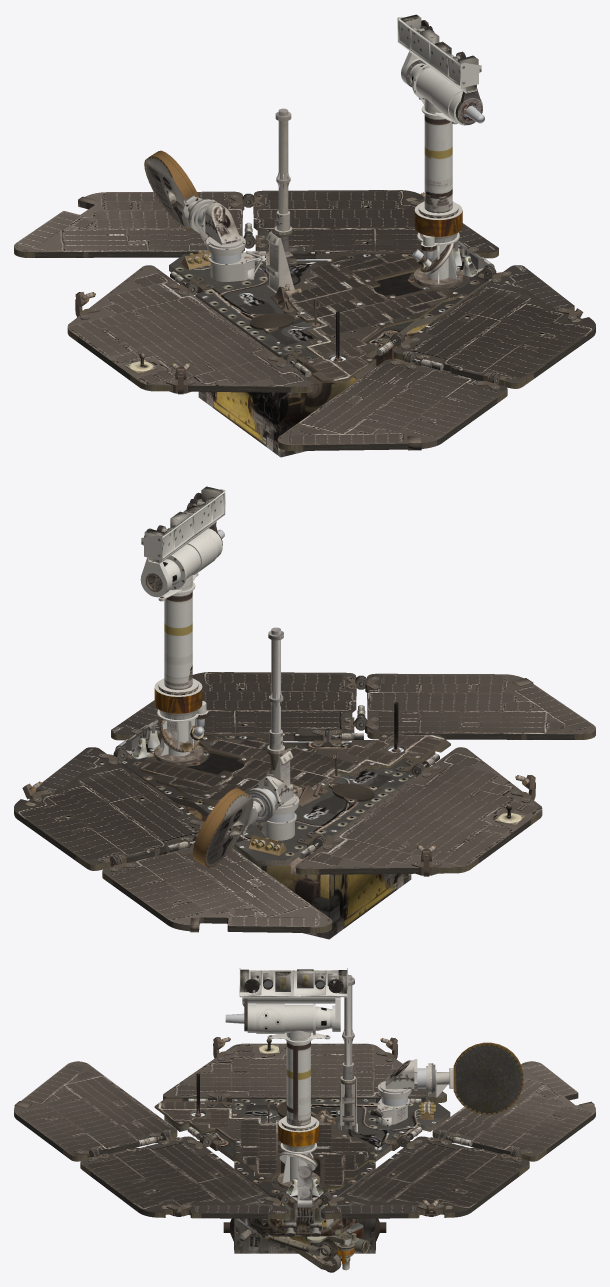
Rendered from Body_Chassis.dae.
3 views of the same model, one above another, from view 1: azimuth 30°, elevation 25°; view 2: azimuth 150°, elevation 25°; view 3: azimuth 270°, elevation 25° (orthographic). The views are drawn at different scales.
Parts seen in each view (by area): view 1: body, panels_rear, panels_left_front, panels_left_rear, panels_right_front, panels_right_rear, mast_neck, mast_top, HGAA_arm, mast_base, HGAA, HGAA_top (+1 smaller); view 2: body, panels_rear, panels_right_front, panels_left_rear, panels_right_rear, panels_left_front, mast_neck, mast_top, HGAA_arm, mast_base, HGAA_top, HGAA (+1 smaller); view 3: body, panels_left_front, panels_right_front, panels_rear, panels_left_rear, panels_right_rear, mast_neck, HGAA_arm, mast_top, HGAA_top, HGAA, mast_base (+6 smaller).
Boxes of the visible parts, left/top/right/bottom form: body: left=169, top=108, right=496, bottom=457; panels_rear: left=67, top=265, right=314, bottom=394; panels_left_front: left=393, top=265, right=595, bottom=388; panels_left_rear: left=277, top=359, right=507, bottom=450; panels_right_front: left=242, top=190, right=498, bottom=259; panels_right_rear: left=14, top=191, right=244, bottom=257; mast_neck: left=412, top=64, right=482, bottom=218; mast_top: left=397, top=14, right=484, bottom=124; HGAA_arm: left=144, top=150, right=202, bottom=230; mast_base: left=412, top=203, right=462, bottom=272; HGAA: left=206, top=235, right=268, bottom=281; HGAA_top: left=188, top=199, right=240, bottom=245; body: left=113, top=627, right=450, bottom=939; panels_rear: left=295, top=747, right=542, bottom=876; panels_right_front: left=14, top=747, right=204, bottom=870; panels_left_rear: left=365, top=673, right=595, bottom=739; panels_right_rear: left=102, top=847, right=332, bottom=933; panels_left_front: left=111, top=672, right=367, bottom=741; mast_neck: left=158, top=528, right=222, bottom=695; mast_top: left=140, top=486, right=225, bottom=597; HGAA_arm: left=192, top=788, right=265, bottom=867; mast_base: left=154, top=680, right=208, bottom=751; HGAA_top: left=246, top=776, right=294, bottom=831; HGAA: left=261, top=794, right=299, bottom=840; body: left=154, top=974, right=450, bottom=1253; panels_left_front: left=80, top=1131, right=288, bottom=1219; panels_right_front: left=321, top=1131, right=529, bottom=1219; panels_rear: left=163, top=1037, right=446, bottom=1102; panels_left_rear: left=14, top=1061, right=177, bottom=1161; panels_right_rear: left=432, top=1061, right=595, bottom=1161; mast_neck: left=247, top=1003, right=330, bottom=1130; HGAA_arm: left=435, top=1042, right=523, bottom=1114; mast_top: left=225, top=968, right=347, bottom=1031; HGAA_top: left=385, top=1059, right=435, bottom=1101; HGAA: left=370, top=1081, right=411, bottom=1126; mast_base: left=278, top=1118, right=319, bottom=1167.
Size of the model in its own units: 1.59 by 2.28 by 1.29.
Materials: 9 (7 with a texture image).
